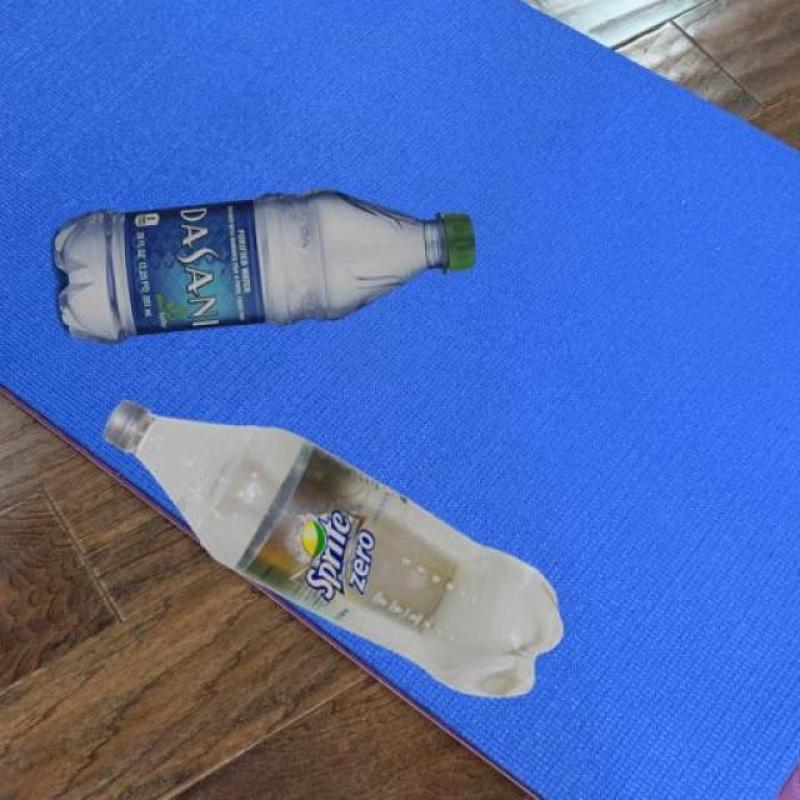botella: (98, 395, 566, 699), (52, 190, 477, 340)
